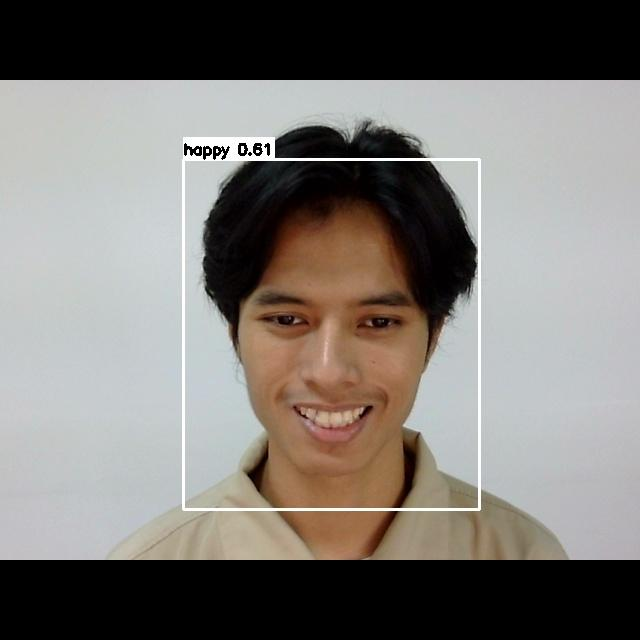Happy: (226, 246, 445, 466)
